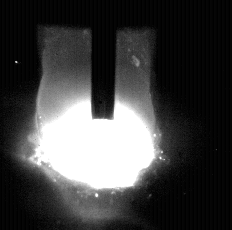arame: (92, 0, 116, 120)
poca: (37, 0, 157, 230)
